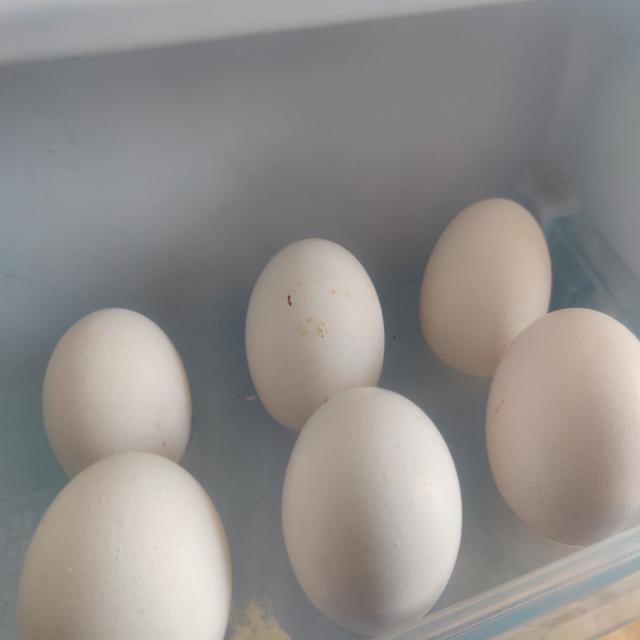Egg: (280, 384, 465, 640), (15, 448, 232, 640), (484, 309, 640, 548), (244, 239, 386, 433), (41, 308, 193, 481), (418, 198, 552, 382)
